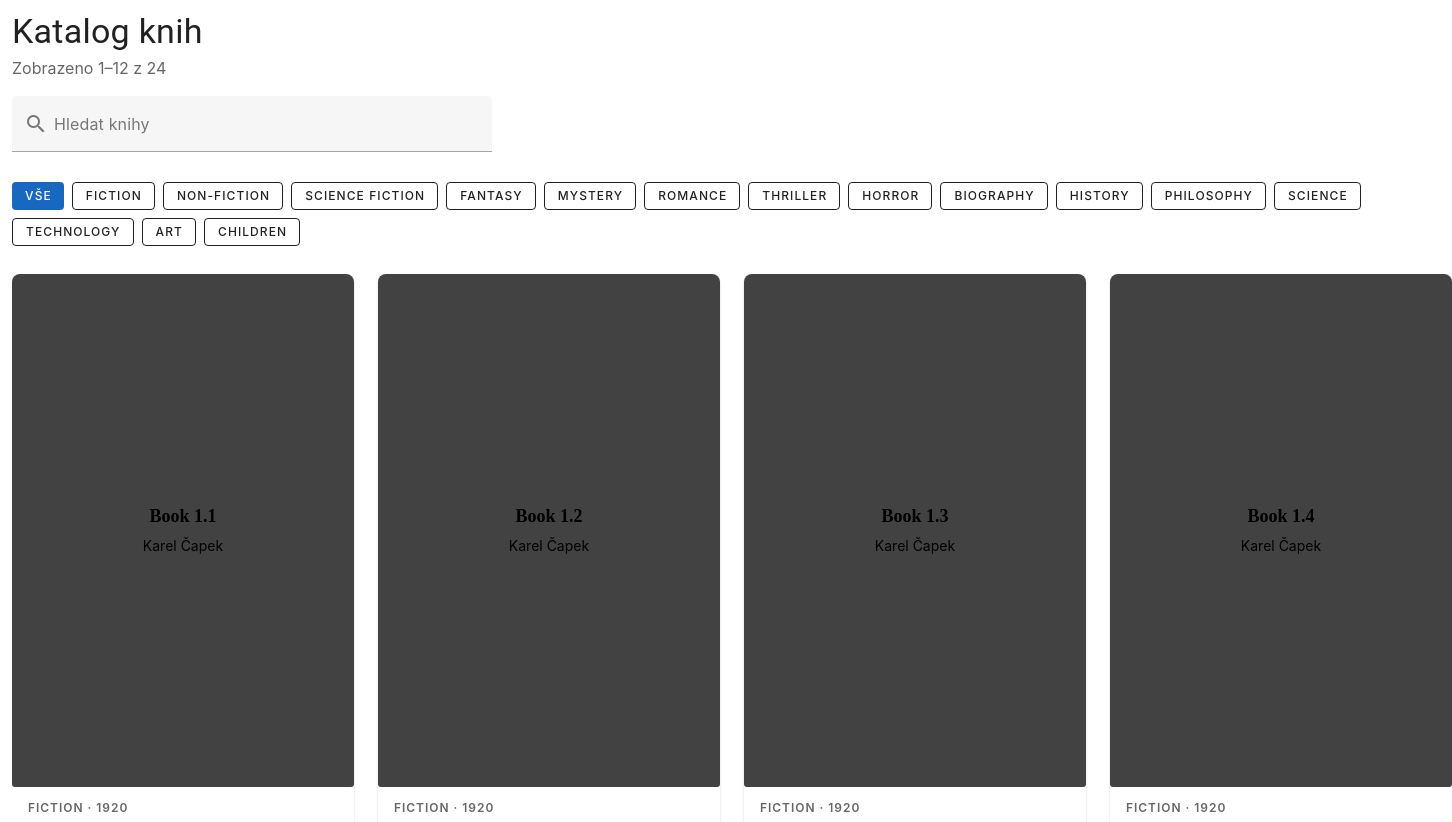
Test: the catalogue page › asks for two characters and keeps the results for one
Type "Č" into the field labelled "Hledat knihy" at (264, 124), box [48, 96, 480, 152]
Wait 1000 ms
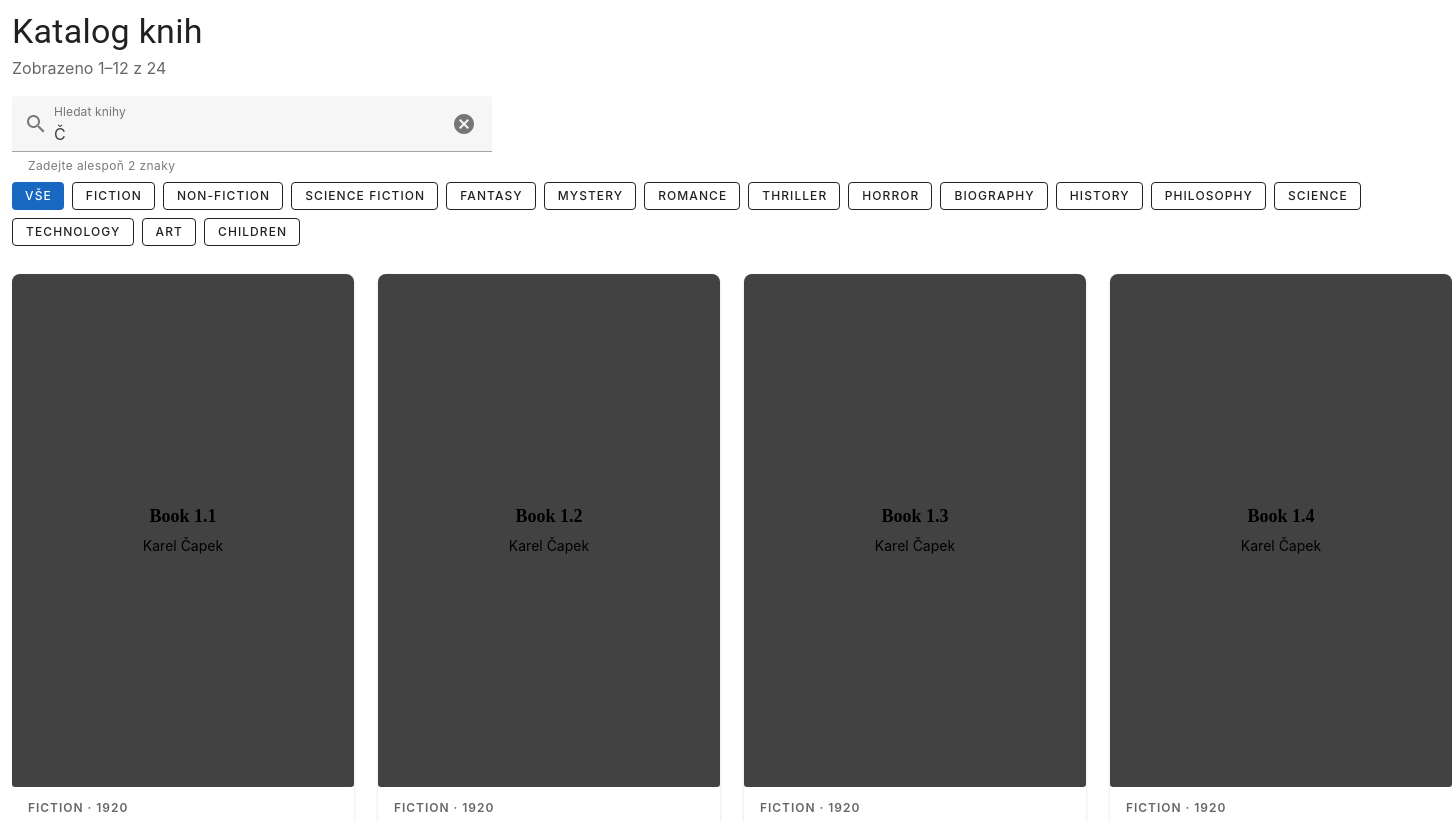
Now the text "Zadejte alespoň 2 znaky" is shown, box [28, 158, 175, 173]
